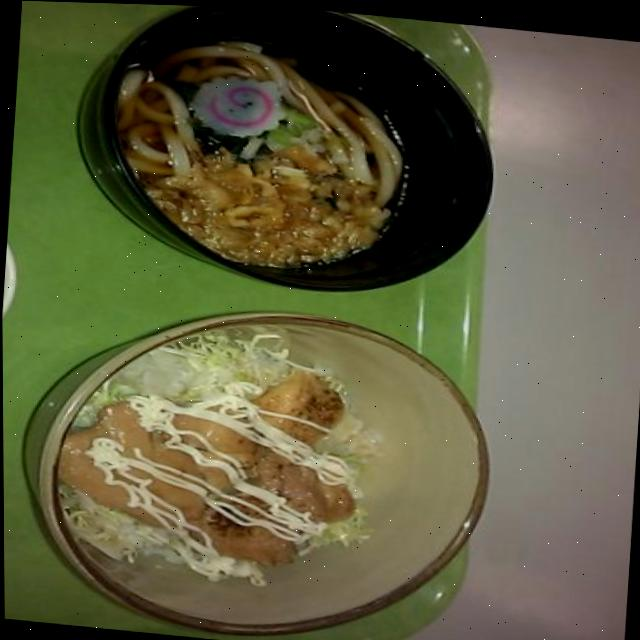面条主食: (52, 1, 510, 300)
